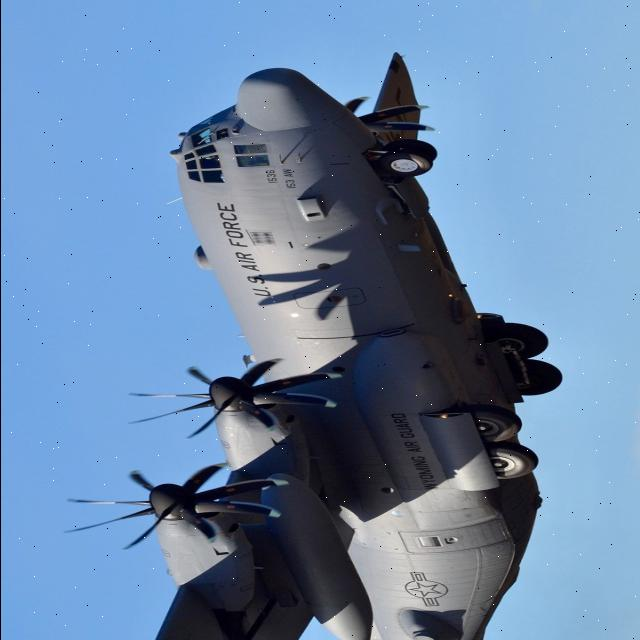C130: (39, 32, 606, 640)
